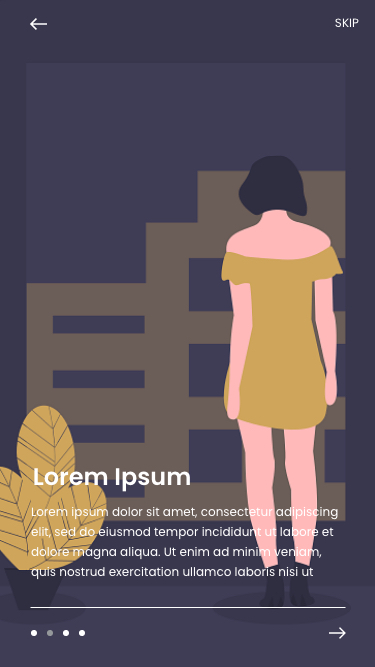BackgroundImage: (1, 1, 375, 667)
Icon: (329, 626, 347, 640), (30, 19, 48, 32)
PageIndicator: (31, 629, 87, 637)
Text: (31, 507, 338, 580), (34, 468, 191, 493), (335, 19, 359, 29)
